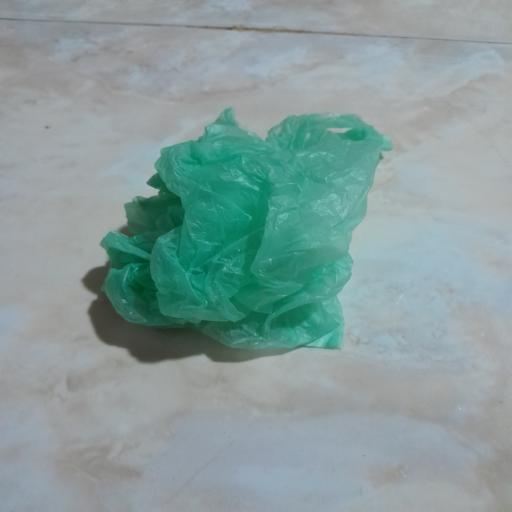waste: (85, 98, 404, 370)
